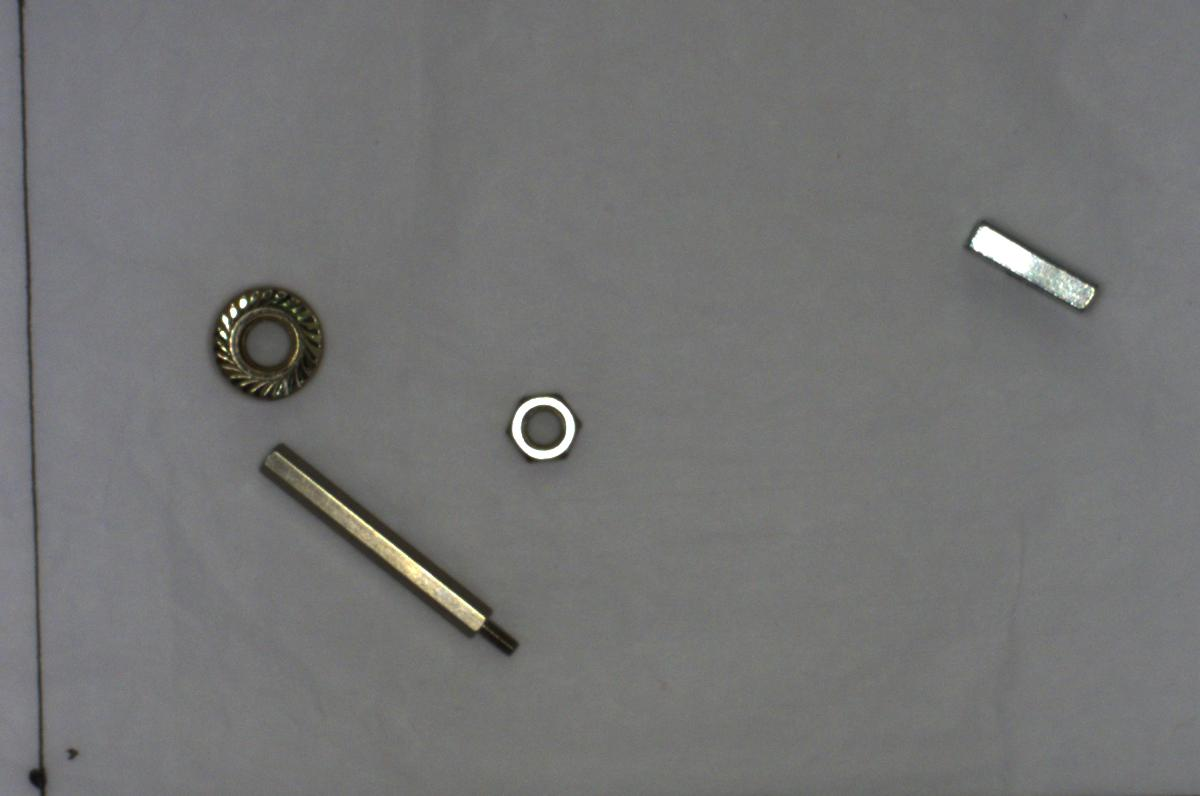Flange nut: (200, 274, 331, 402)
Hexagon nut: (499, 379, 591, 468)
Hexagonal steel column: (247, 434, 524, 661)
Rectangular nut: (954, 209, 1107, 322)
